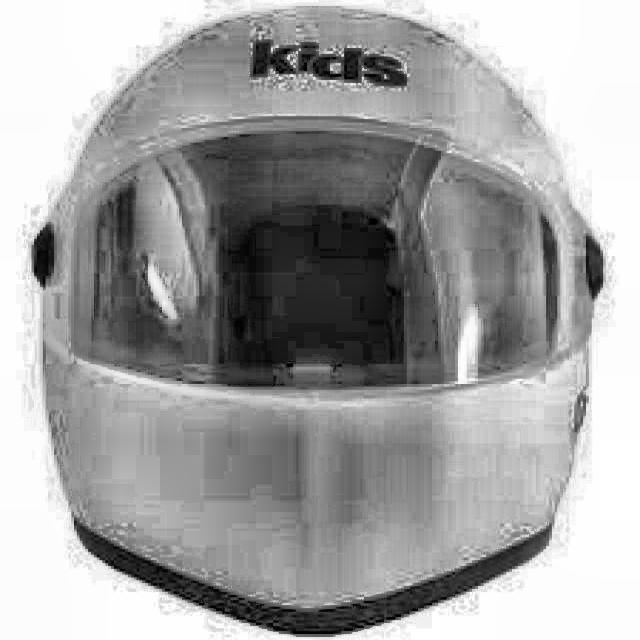Helmet: (42, 2, 608, 640)
